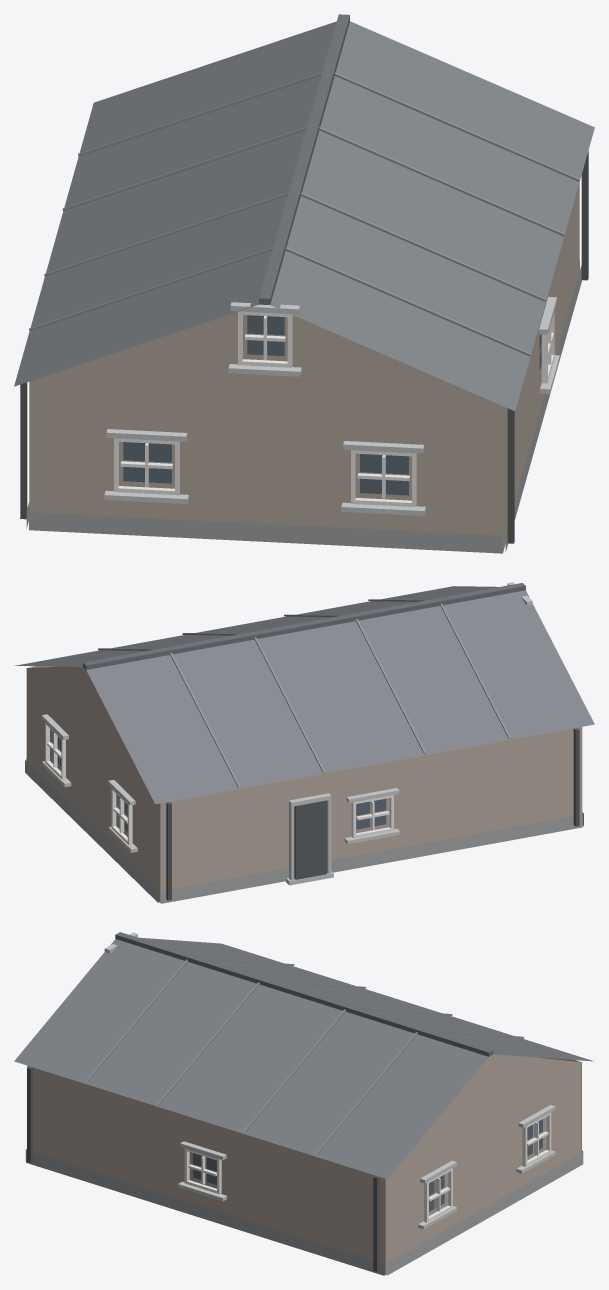
3 views of the same model, one above another, from view 1: azimuth 30°, elevation 25°; view 2: azimuth 150°, elevation 25°; view 3: azimuth 270°, elevation 25° (orthographic). The views are drawn at different scales.
Visible parts, largest first — view 1: slate, harl_brown, plinth, slate_lt, frame, stone_band, slate_dk, pipe; view 2: slate, harl_brown, plinth, slate_dk, stone_band, slate_lt, door_dark, frame, pipe; view 3: slate, harl_brown, plinth, slate_dk, slate_lt, frame, stone_band, pipe.
Part boxes in pixels (left/top/right/bottom): slate: left=14, top=21, right=594, bottom=411; harl_brown: left=29, top=183, right=579, bottom=552; plinth: left=26, top=261, right=582, bottom=553; slate_lt: left=29, top=72, right=579, bottom=356; frame: left=114, top=311, right=554, bottom=506; stone_band: left=104, top=296, right=559, bottom=515; slate_dk: left=259, top=14, right=349, bottom=304; pipe: left=20, top=151, right=588, bottom=543; slate: left=14, top=586, right=594, bottom=804; harl_brown: left=26, top=666, right=582, bottom=902; plinth: left=25, top=758, right=583, bottom=903; slate_dk: left=83, top=583, right=525, bottom=669; stone_band: left=41, top=582, right=532, bottom=885; slate_lt: left=98, top=599, right=510, bottom=788; door_dark: left=294, top=800, right=326, bottom=879; frame: left=45, top=722, right=393, bottom=845; pipe: left=166, top=728, right=579, bottom=900; slate: left=14, top=937, right=593, bottom=1179; harl_brown: left=27, top=1054, right=581, bottom=1275; plinth: left=25, top=1149, right=583, bottom=1275; slate_dk: left=115, top=932, right=493, bottom=1056; slate_lt: left=85, top=957, right=524, bottom=1155; frame: left=184, top=1112, right=551, bottom=1222; stone_band: left=104, top=932, right=555, bottom=1229; pipe: left=27, top=1062, right=581, bottom=1271.
Bounding box in the file's own units: 14.18 × 4.82 × 14.77.
